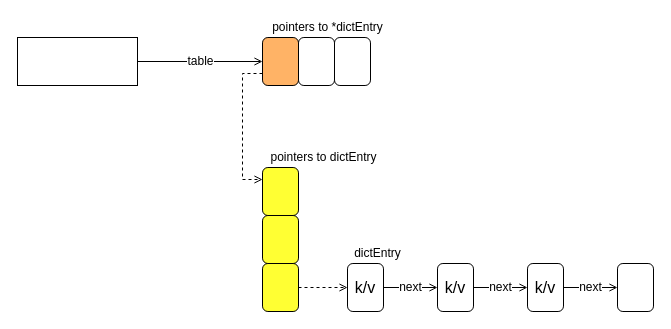
Some shapes in this 671 by 329 pixel diagram are drawn without their labels. Here are the shapes that lost their labels. From the top down, the centre of each, then its label:
At pixel 77 61: "dictht".
At pixel 635 287: "NULL".
